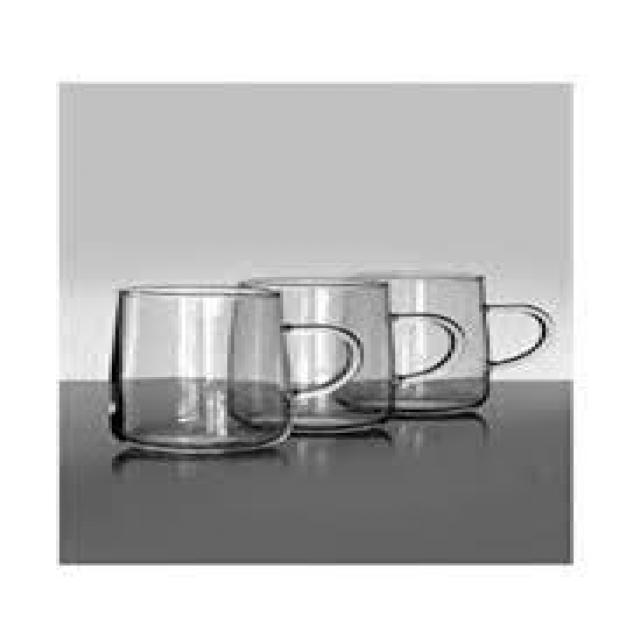non-organic waste: (105, 286, 364, 447)
